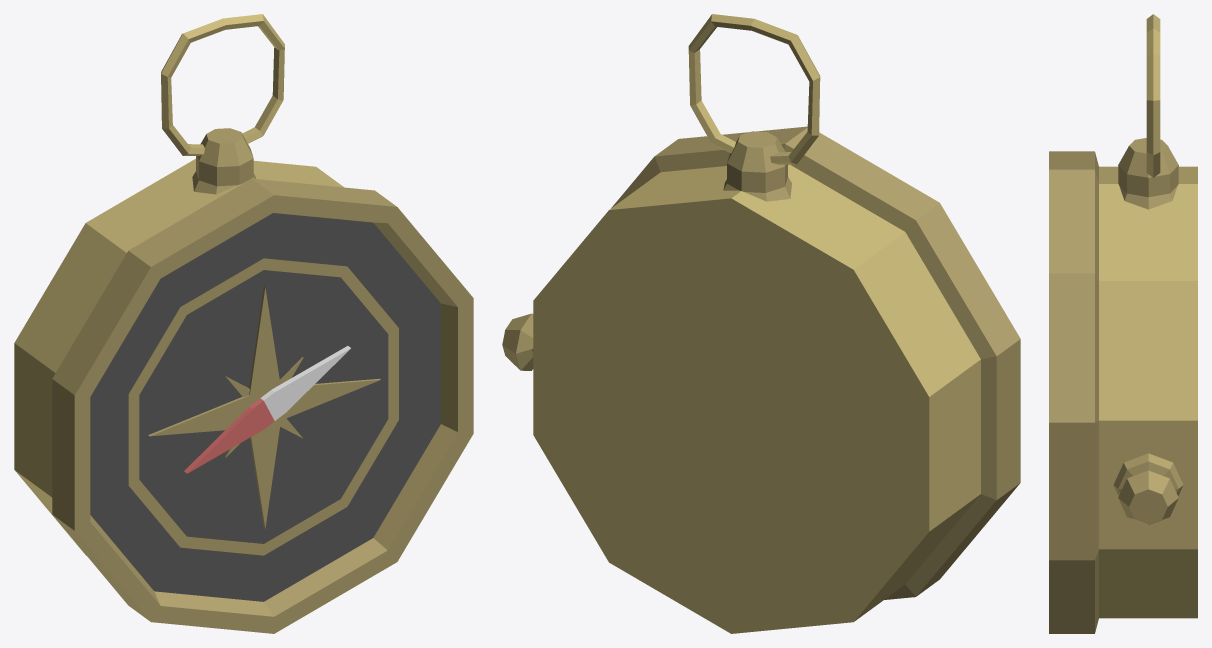
Rendered from CompassB.glb.
The picture shows the model from 3 angles, left to right: view 1: azimuth 30°, elevation 25°; view 2: azimuth 150°, elevation 25°; view 3: azimuth 270°, elevation 25°; orthographic projection. The views are drawn at different scales.
Visible parts, largest first — view 1: MESH 4, MESH 1, MESH 0, MESH 3, MESH 2; view 2: MESH 0, MESH 1; view 3: MESH 0, MESH 1.
Part boxes in pixels (bbox=[...]): MESH 4: bbox=[90, 213, 440, 601]; MESH 1: bbox=[52, 128, 473, 633]; MESH 0: bbox=[14, 14, 344, 555]; MESH 3: bbox=[184, 398, 274, 473]; MESH 2: bbox=[260, 346, 350, 420]; MESH 0: bbox=[533, 14, 980, 633]; MESH 1: bbox=[502, 126, 1020, 599]; MESH 0: bbox=[1099, 14, 1197, 618]; MESH 1: bbox=[1049, 138, 1183, 633].
Size of the model in its own units: 0.6273 by 0.8054 by 0.1852.
